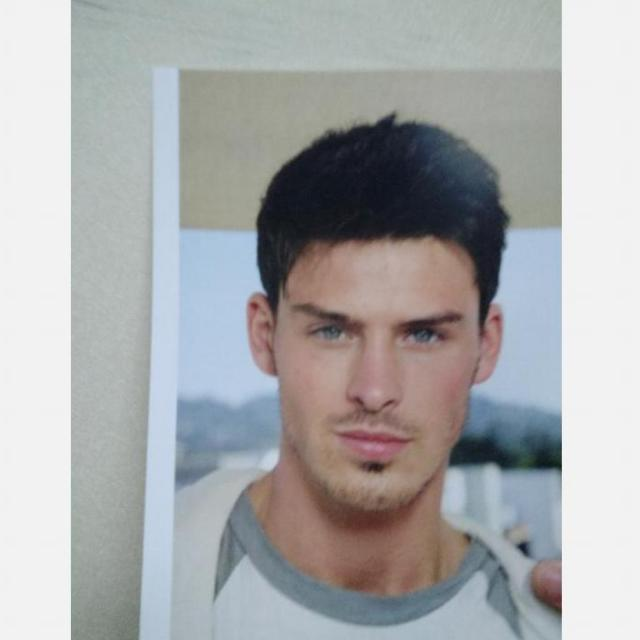photo: (140, 62, 560, 640)
